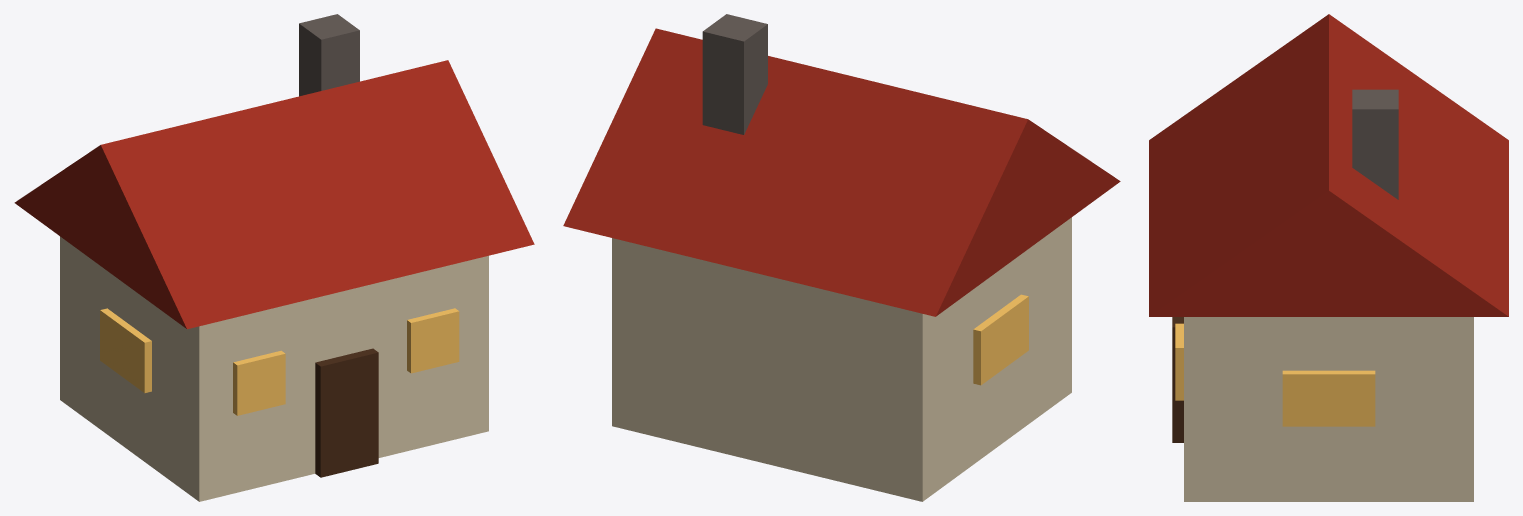
File: casa.obj
The picture shows the model from 3 angles, left to right: view 1: azimuth 30°, elevation 25°; view 2: azimuth 150°, elevation 25°; view 3: azimuth 270°, elevation 25°; orthographic projection. The views are drawn at different scales.
Parts seen in each view (by area): view 1: casa; view 2: casa; view 3: casa.
Part boxes in pixels (x1=…): casa: x1=14, y1=14, x2=534, y2=501; casa: x1=563, y1=14, x2=1120, y2=501; casa: x1=1149, y1=14, x2=1508, y2=501.
Size of the model in its own units: 0.72 by 0.7 by 0.62.
